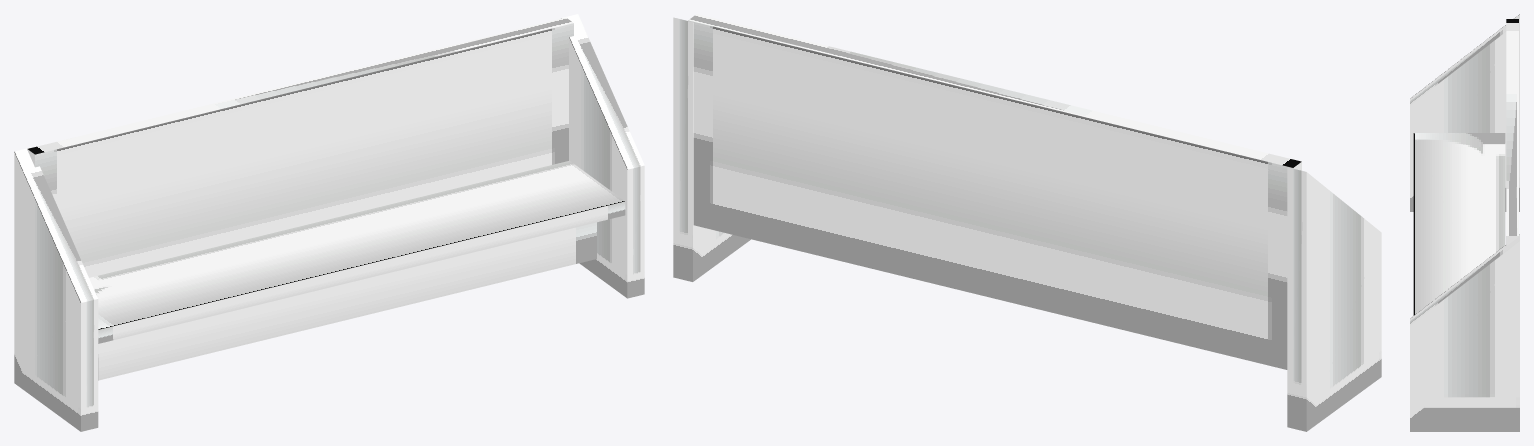
File: Building_Pew.glb
3 views of the same model, side by side, from view 1: azimuth 30°, elevation 25°; view 2: azimuth 150°, elevation 25°; view 3: azimuth 270°, elevation 25° (orthographic). The views are drawn at different scales.
Visible parts, largest first — view 1: Pew; view 2: Pew; view 3: Pew.
Part boxes in pixels (<box>): Pew: <box>14,14,644,431</box>; Pew: <box>673,14,1381,431</box>; Pew: <box>1410,14,1519,431</box>.
Size of the model in its own units: 2.93 by 1.15 by 0.6.
1 material, 1 textured.
